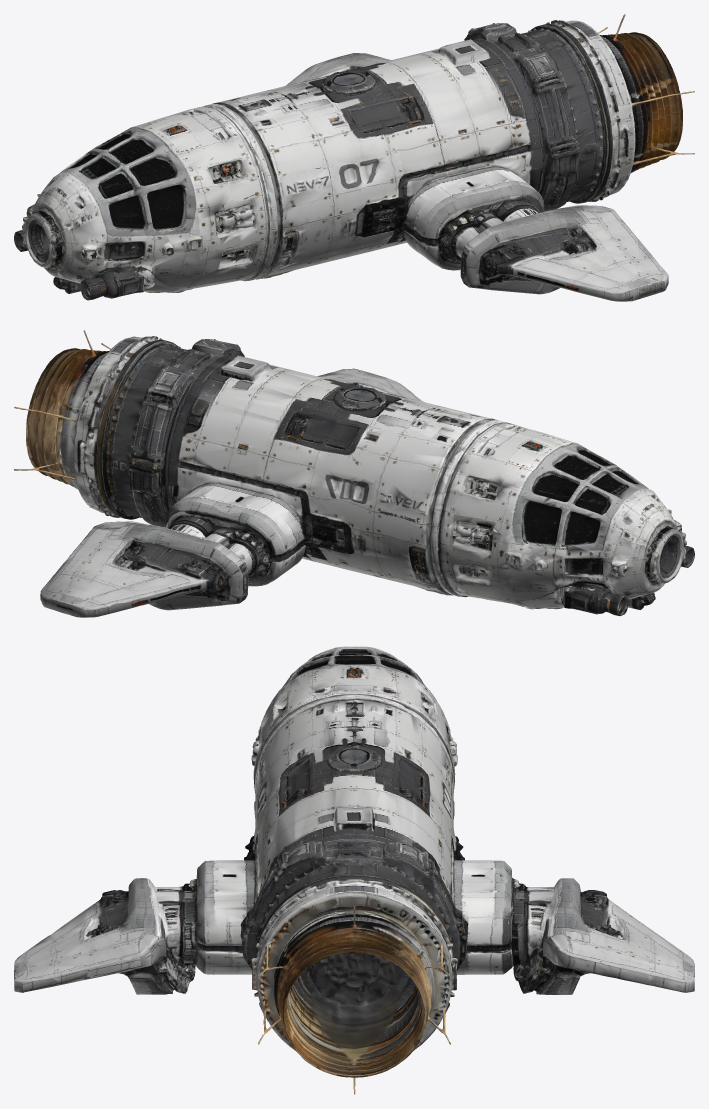
File: ship1.glb
3 views of the same model, one above another, from view 1: azimuth 30°, elevation 25°; view 2: azimuth 150°, elevation 25°; view 3: azimuth 270°, elevation 25° (orthographic). The views are drawn at different scales.
Size of the model in its own units: 1.9 by 0.5336 by 1.67.
1 material, 1 textured.
